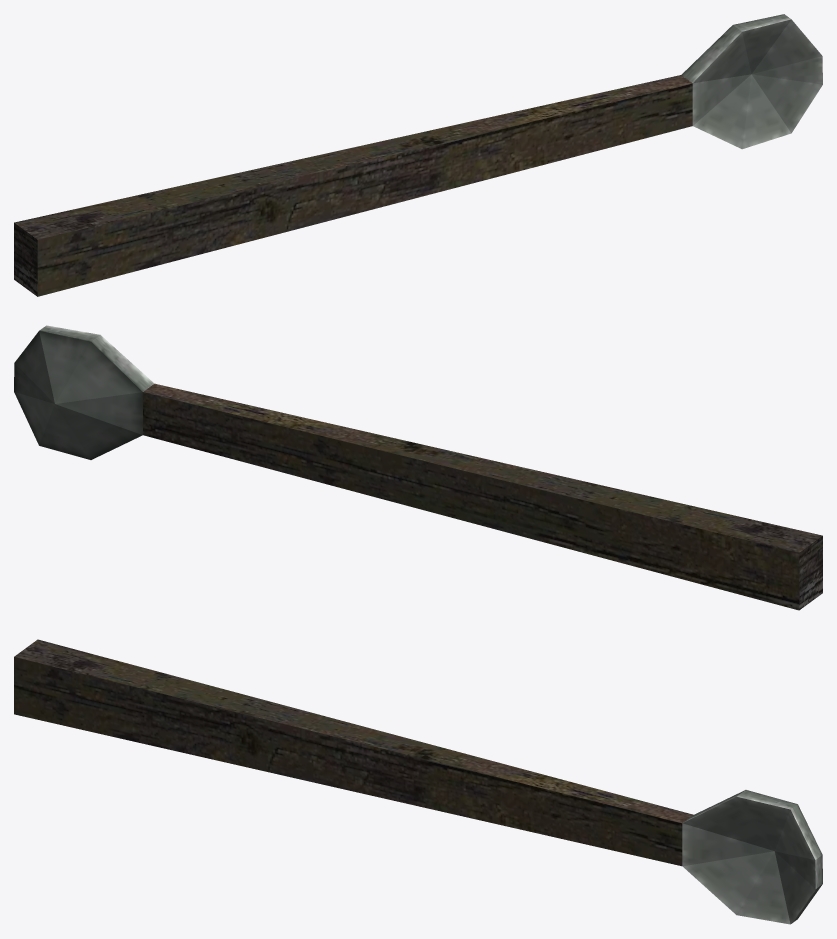
File: ITMI_SCOOP.glb
3 views of the same model, one above another, from view 1: azimuth 30°, elevation 25°; view 2: azimuth 150°, elevation 25°; view 3: azimuth 330°, elevation 25° (orthographic).
Visible parts, largest first — view 1: ITMI_SCOOP; view 2: ITMI_SCOOP; view 3: ITMI_SCOOP.
Part boxes in pixels (left/top/right/bottom): ITMI_SCOOP: left=14, top=14, right=822, bottom=296; ITMI_SCOOP: left=14, top=325, right=822, bottom=610; ITMI_SCOOP: left=14, top=639, right=822, bottom=924.
Bounding box in the file's own units: 1.07 × 0.1526 × 0.0648.
2 materials, 2 textured.
